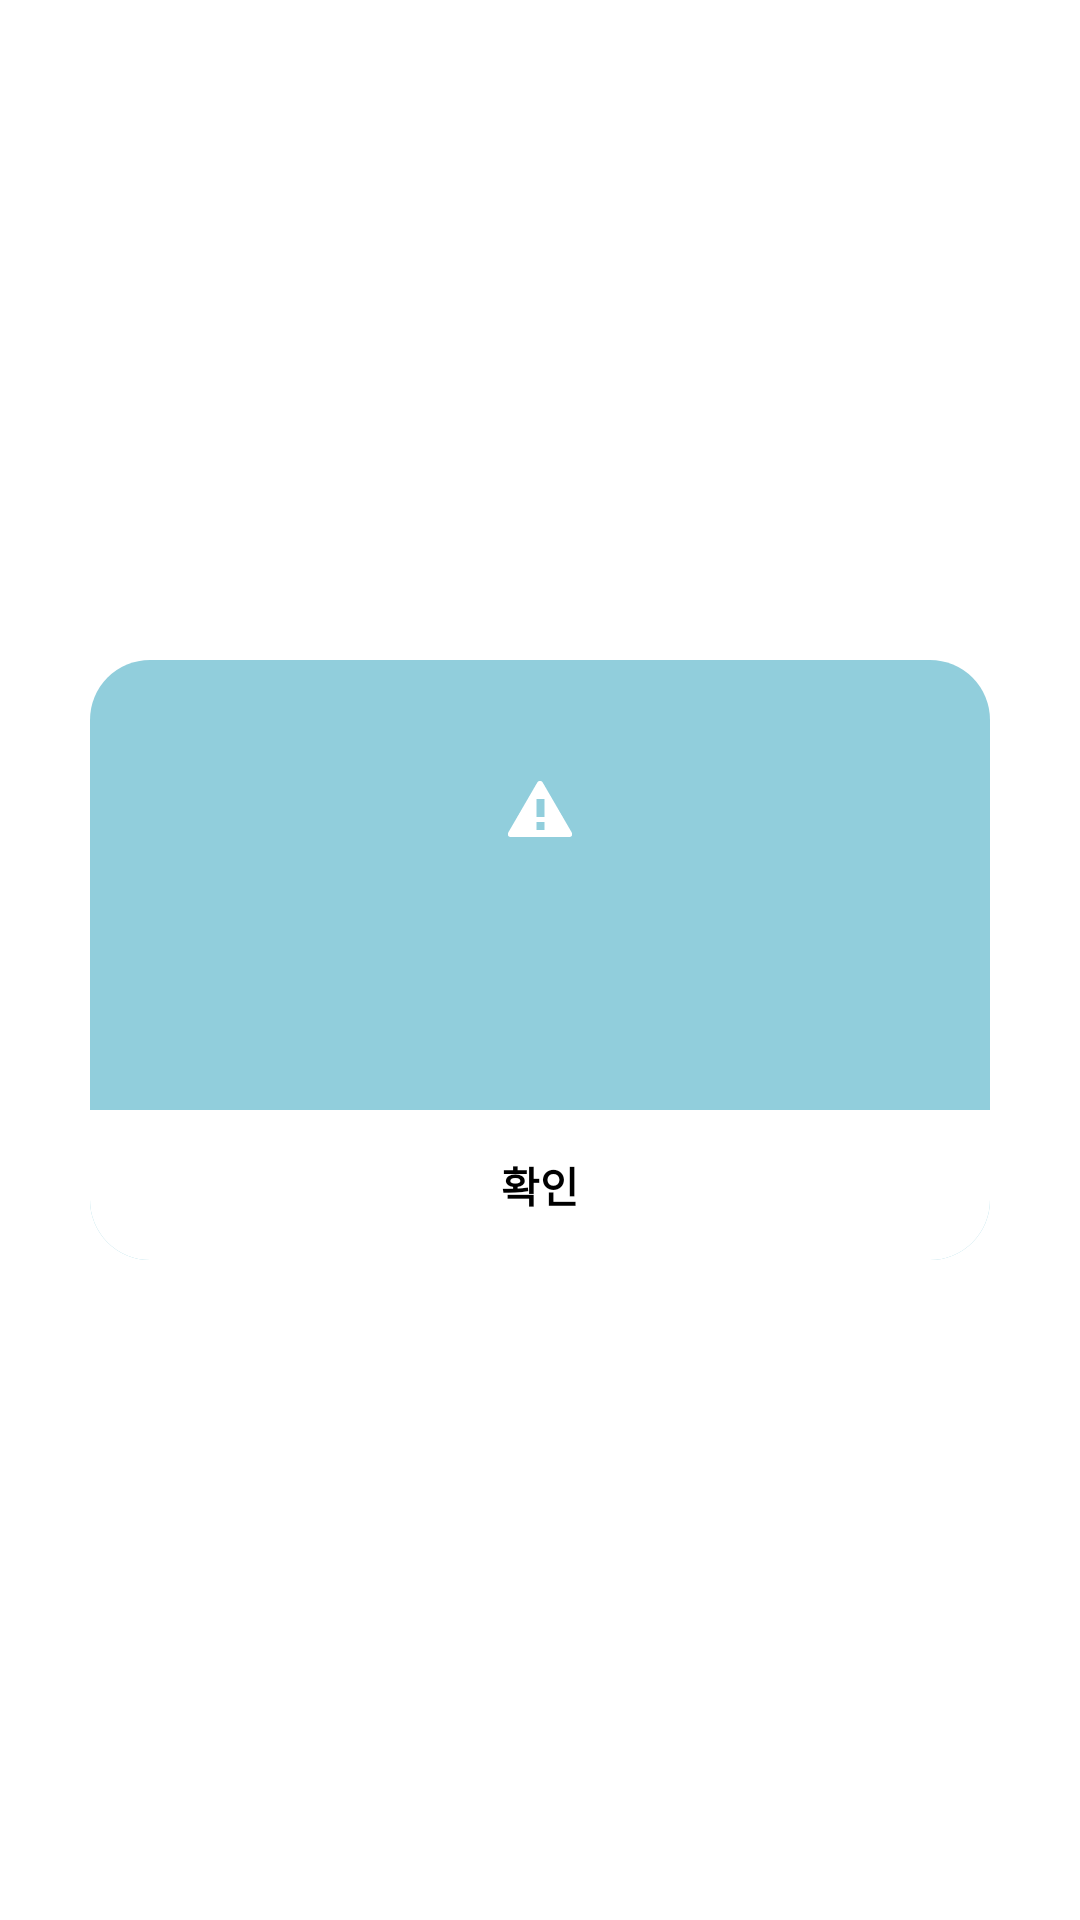

Named icons in this screenshot (1080px×1920px) and their centers, (x=x, y=y):
error: (x=540, y=809)
